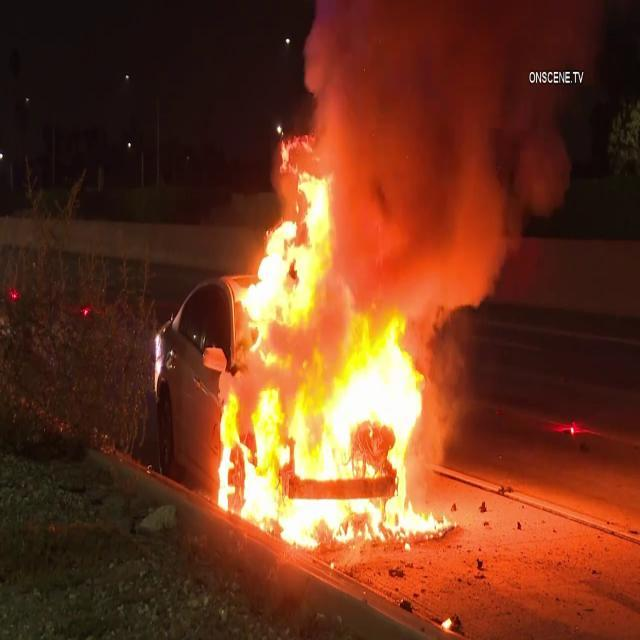Fire: (211, 229, 456, 544)
Smoke: (264, 0, 598, 336)
